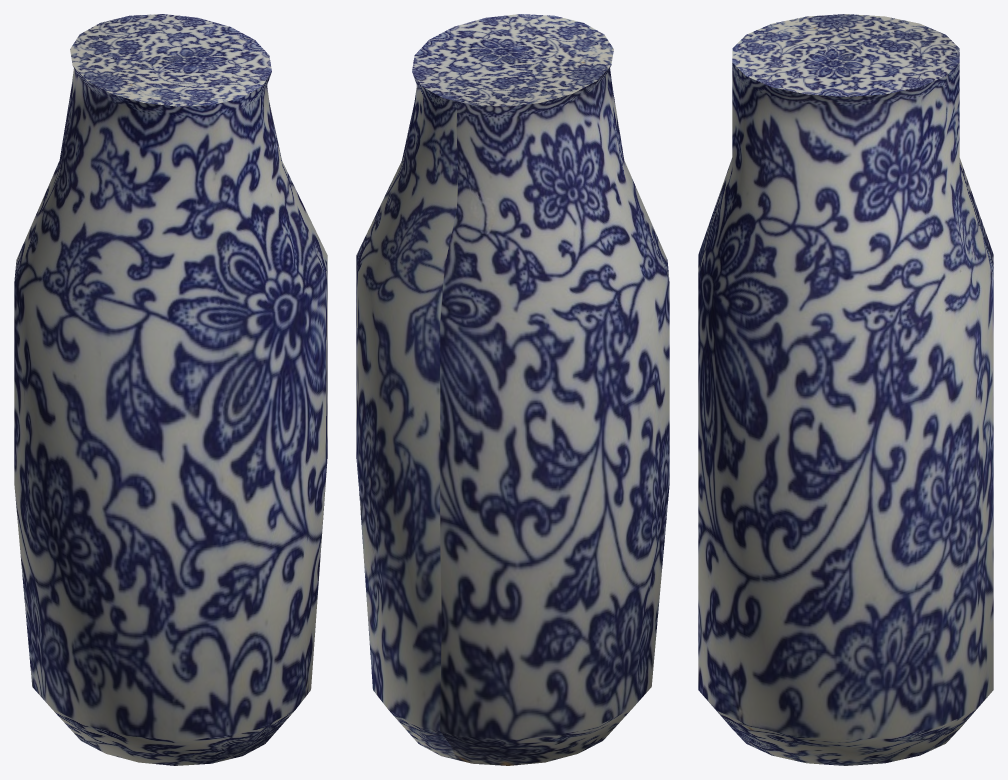
File: flowerbottle1.FBX
3 views of the same model, side by side, from view 1: azimuth 30°, elevation 25°; view 2: azimuth 150°, elevation 25°; view 3: azimuth 270°, elevation 25° (orthographic).
Parts seen in each view (by area): view 1: Cylinder001; view 2: Cylinder001; view 3: Cylinder001.
Boxes of the visible parts, x1=… form: Cylinder001: x1=14, y1=14, x2=327, y2=765; Cylinder001: x1=356, y1=14, x2=669, y2=765; Cylinder001: x1=698, y1=14, x2=993, y2=765.
Size of the model in its own units: 10.68 by 24.05 by 9.66.
